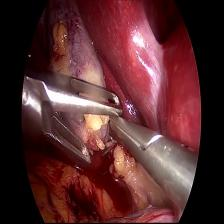Grasper: (21, 61, 126, 175), (107, 116, 197, 213)
